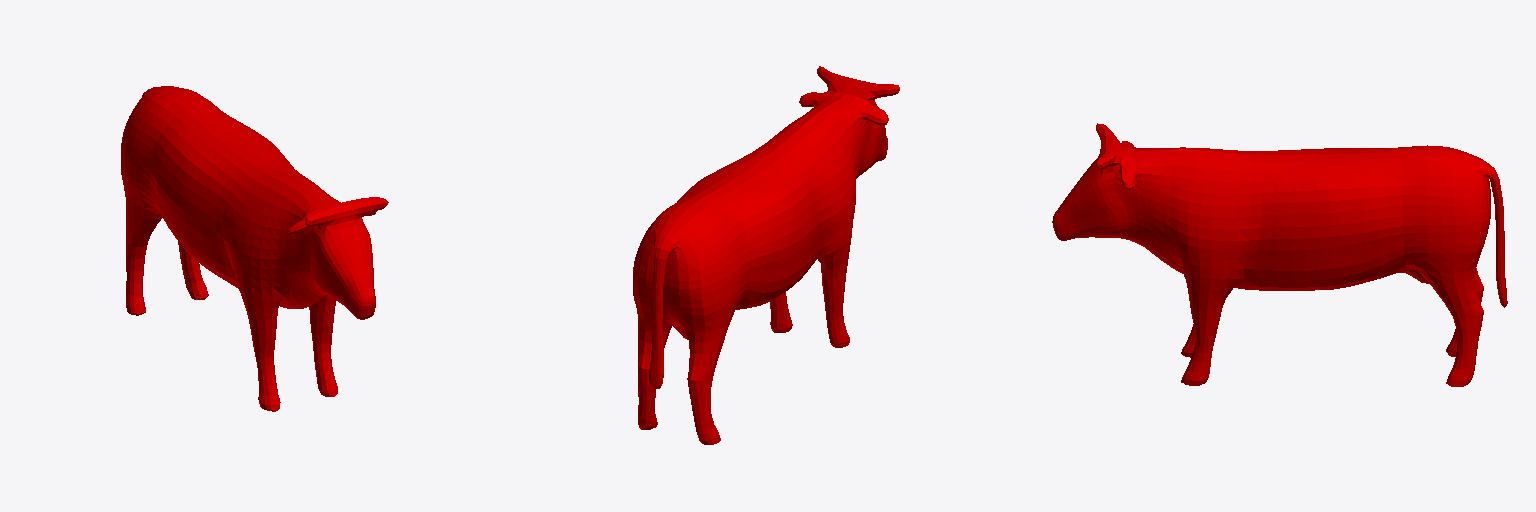
The picture shows the model from 3 angles: view 1: azimuth 30°, elevation 25°; view 2: azimuth 150°, elevation 25°; view 3: azimuth 270°, elevation 25°; orthographic projection.
Parts seen in each view (by area): view 1: bull_1; view 2: bull_1; view 3: bull_1.
Boxes of the visible parts, x1,y1,x2,y2 form: bull_1: [121, 86, 388, 411]; bull_1: [633, 66, 899, 444]; bull_1: [1052, 123, 1507, 386].
Size of the model in its own units: 1.84 by 3.88 by 6.99.
Materials: 1 (1 with a texture image).